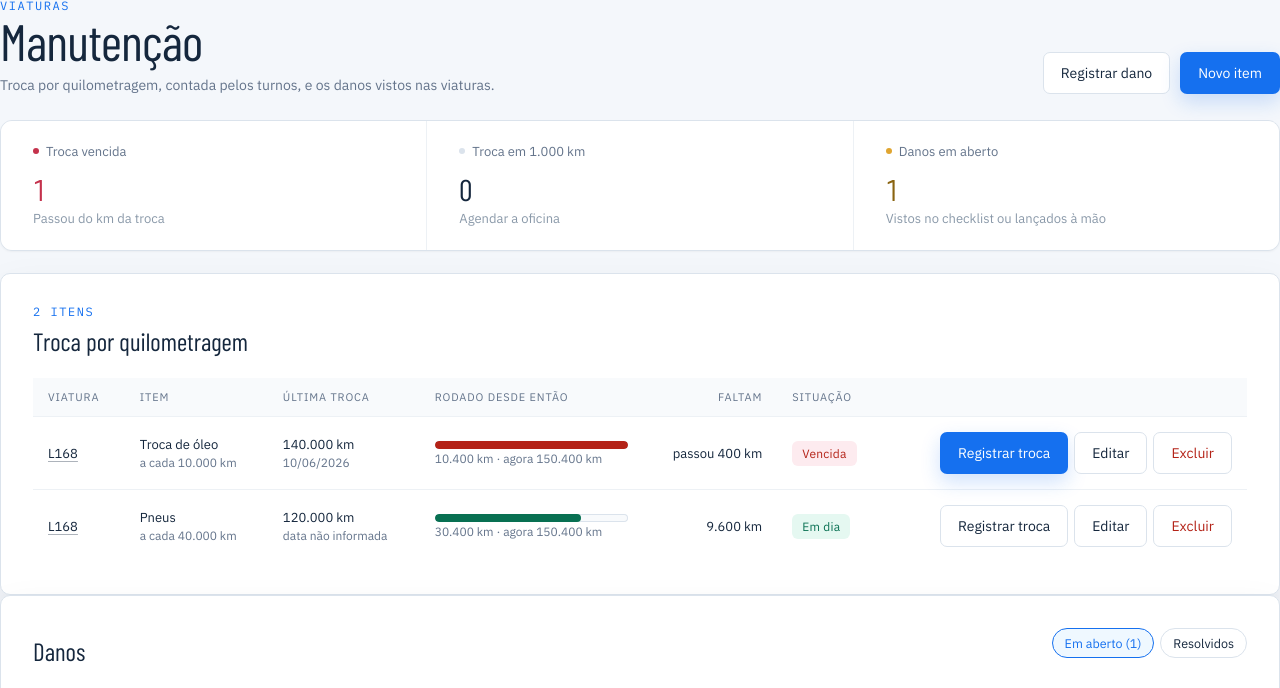
it: registrar a troca recomeça a contagem do odômetro atual
Check: the heading "Manutenção" is shown, box [0,10,203,71]
What coordinates should you click on to do the following:
click the button "Registrar troca" in the row of "Troca de óleo"
I would click on:
 (1004, 454)
Its box is [940,432,1068,474].
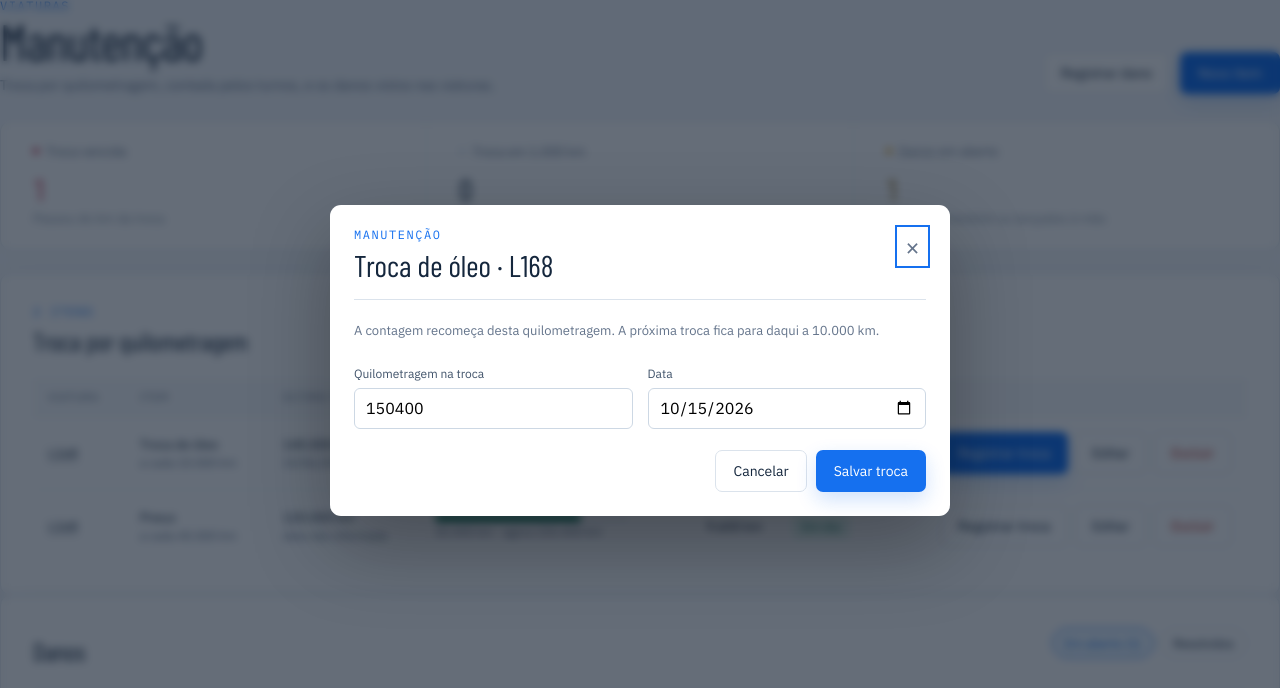
Check: the field labelled "Quilometragem na troca" holds "150400", box [354,388,632,428]
What coordinates should you click on to do the following:
click the button "Salvar troca"
I would click on:
 (871, 470)
Its box is [816,450,926,492].
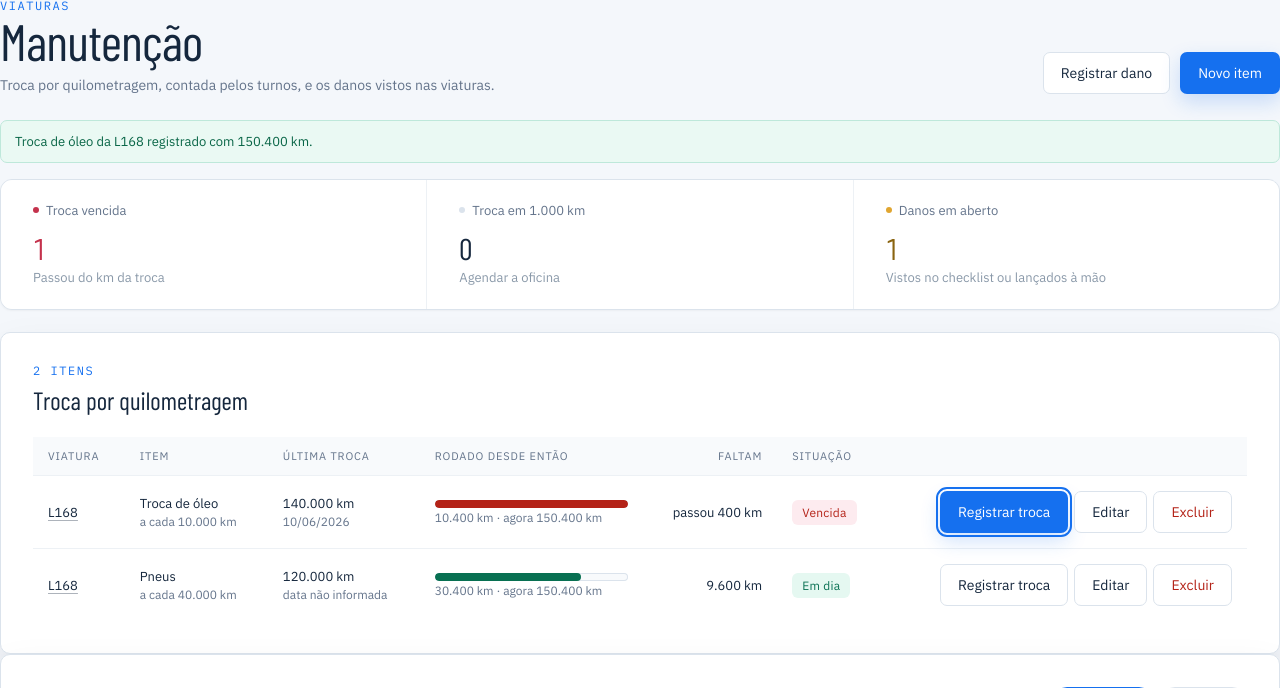
Check: the text "Troca de óleo da L168 registrado com 150.400 km." is shown, box [0,120,1279,163]
